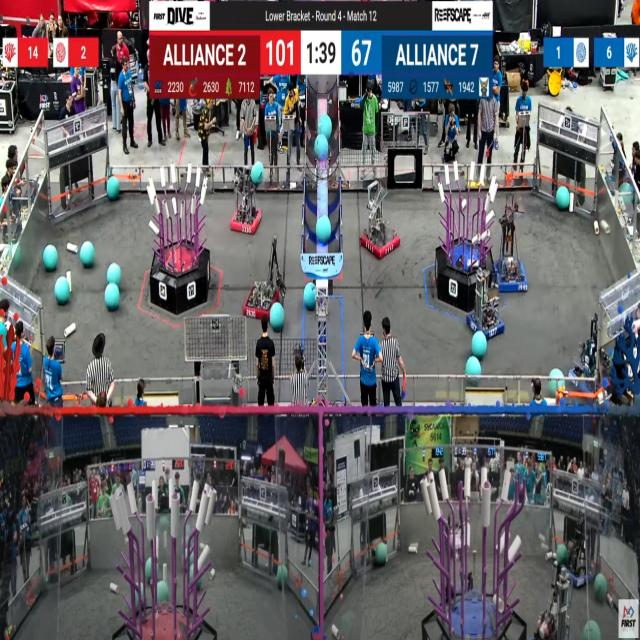Robot-YfA7: (245, 234, 287, 325), (567, 311, 605, 390), (360, 181, 396, 263), (497, 199, 528, 292), (469, 267, 510, 335), (562, 507, 596, 589), (229, 160, 267, 233)
